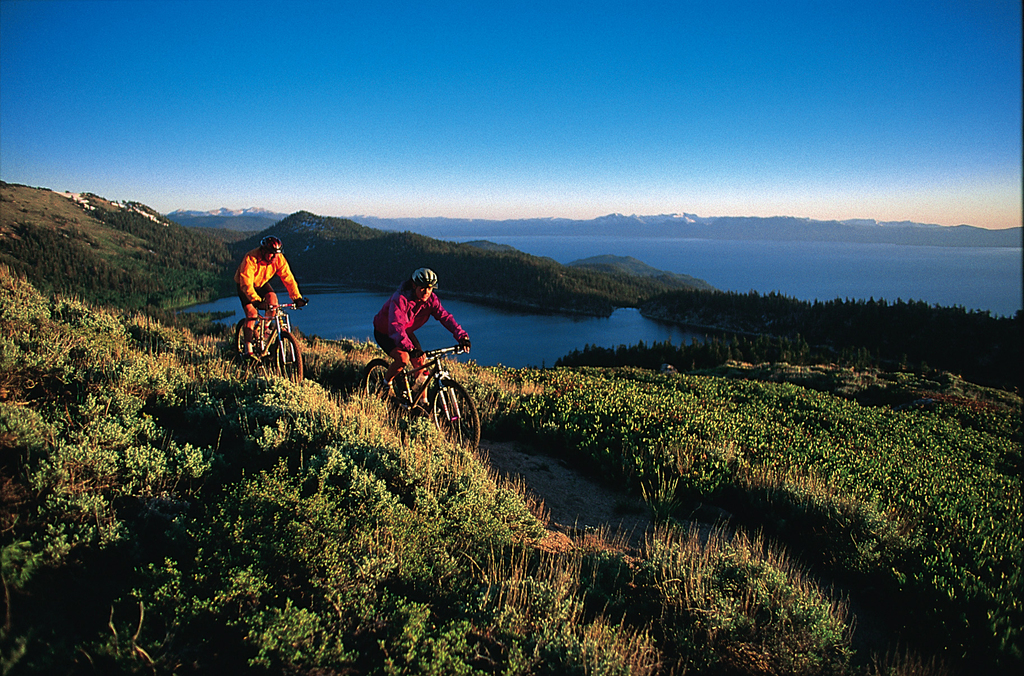Bike: (360, 344, 492, 451), (231, 297, 311, 388)
